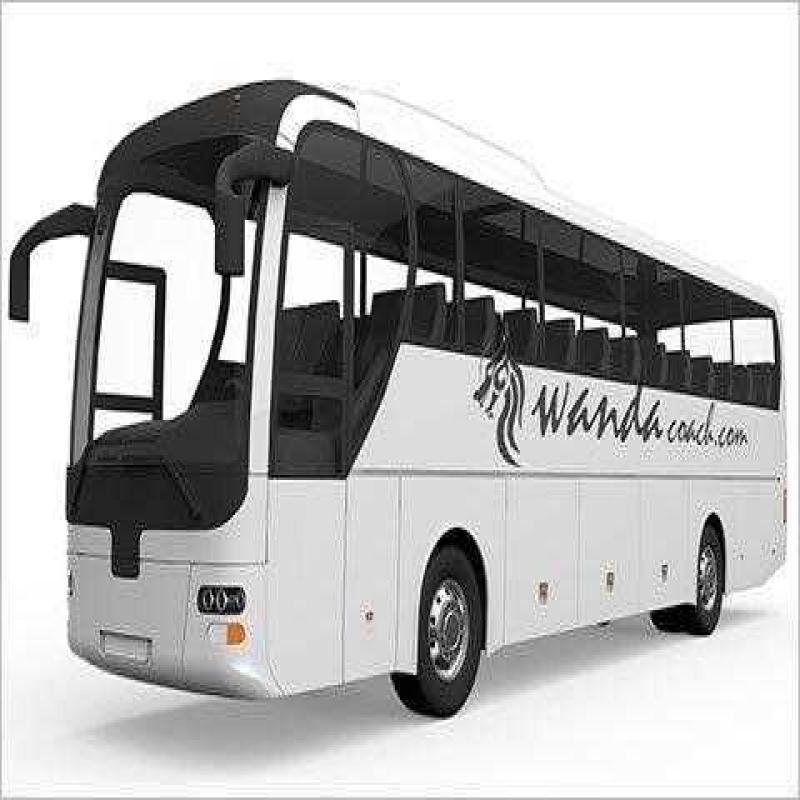bus: (26, 20, 800, 760)
